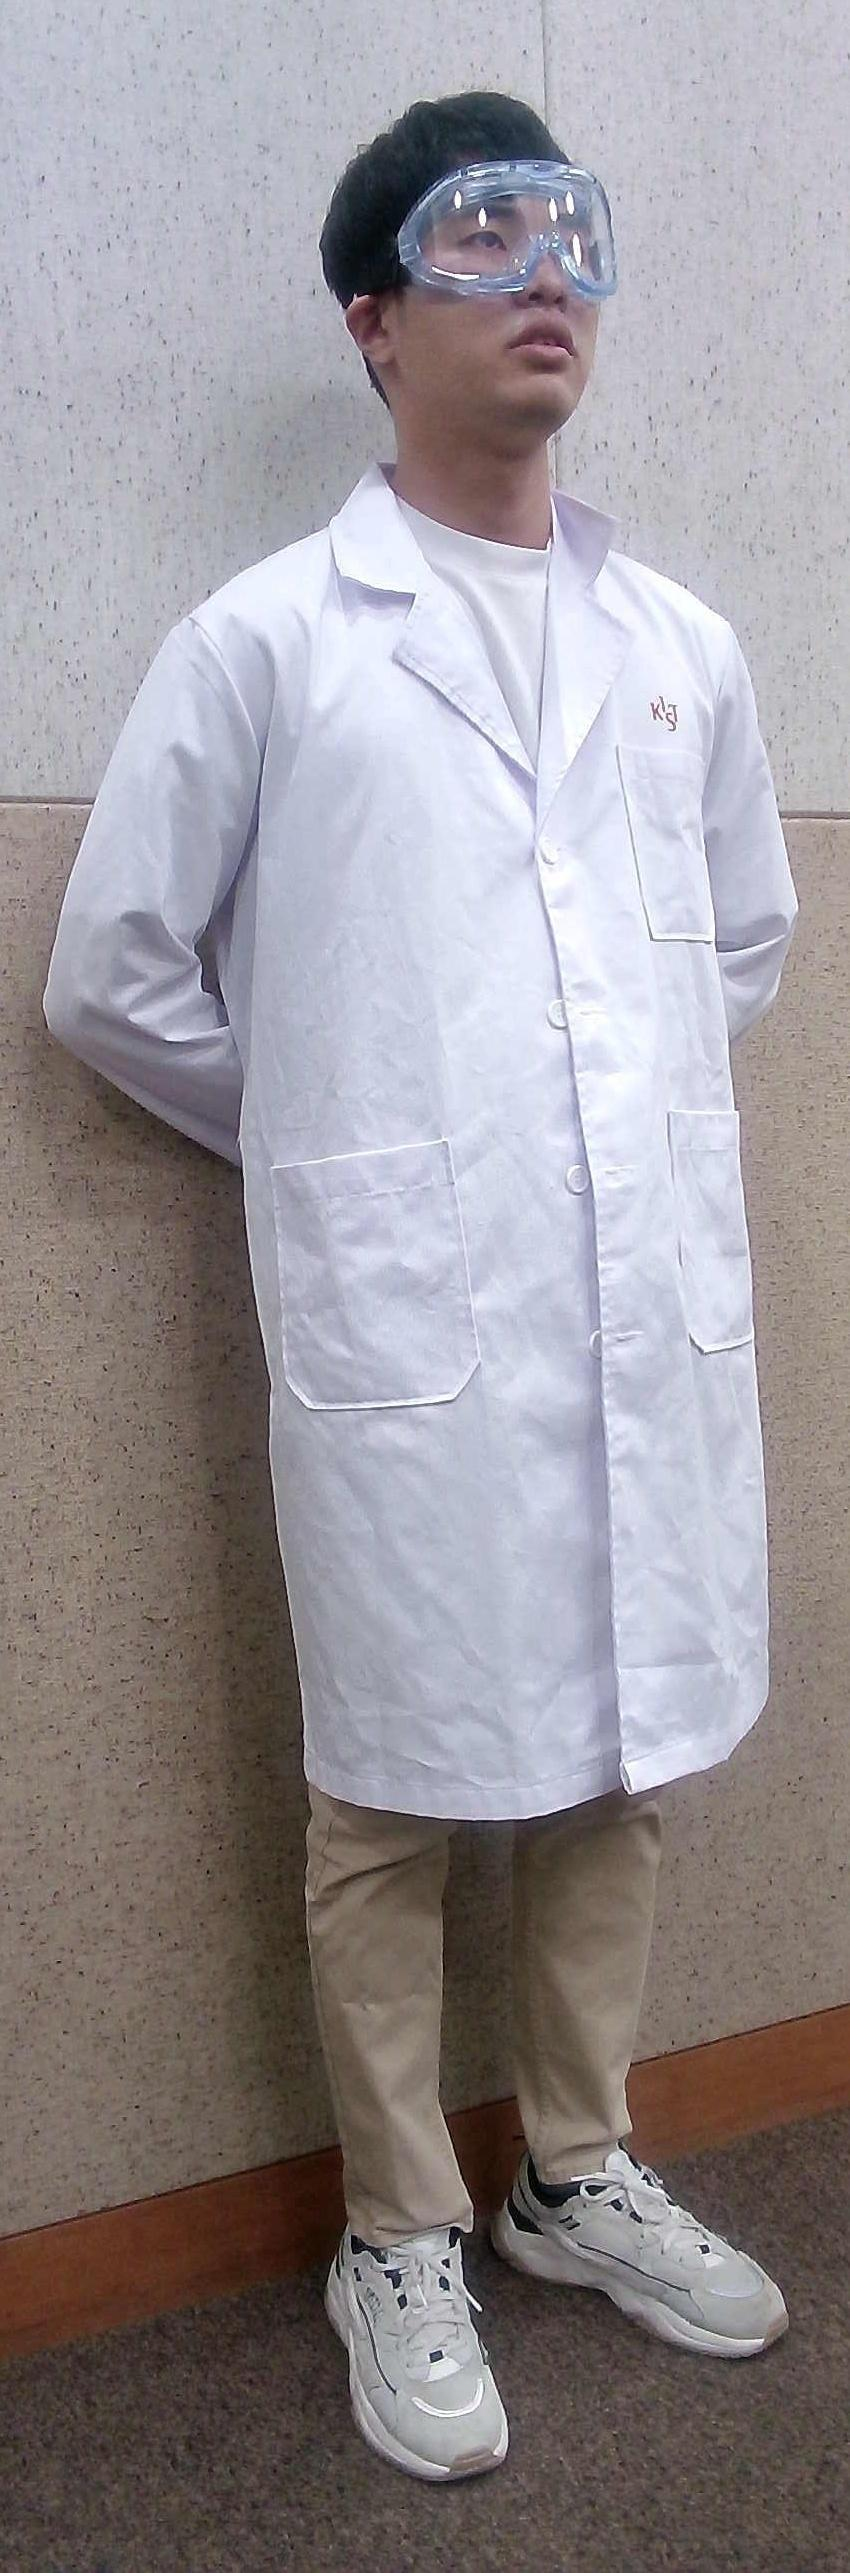lab_coat: (190, 581, 799, 1753)
